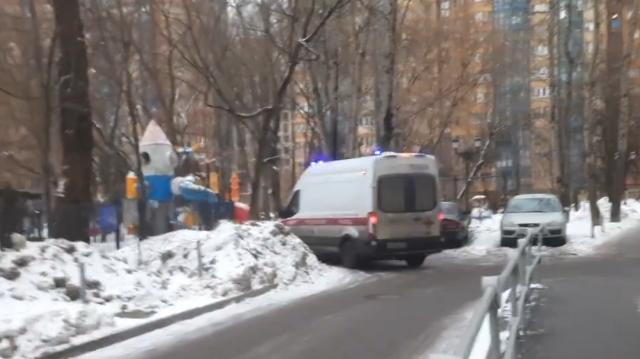ambulance: (280, 152, 441, 271)
non emergency car: (507, 194, 567, 248)
